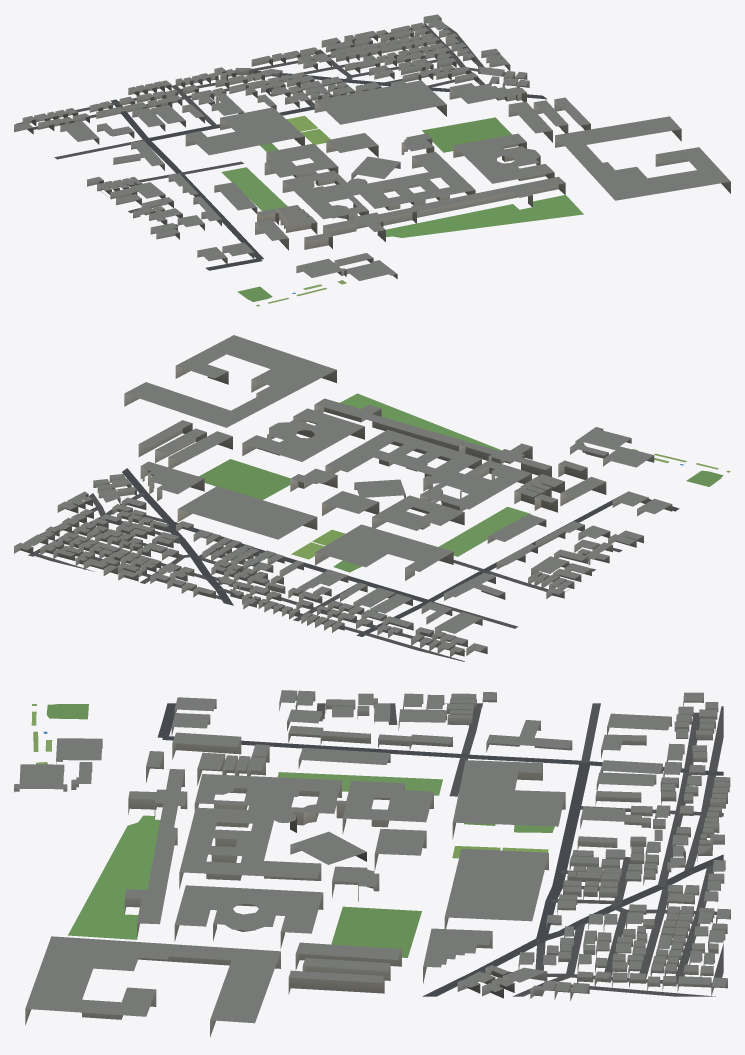
3 renders of one model, top to bottom at view 1: azimuth 30°, elevation 25°; view 2: azimuth 150°, elevation 25°; view 3: azimuth 270°, elevation 25°, orthographic. The views are drawn at different scales.
Visible parts, largest first — view 1: building, ground; view 2: building, ground; view 3: building, ground.
Boxes of the visible parts, x1,y1,x2,y2 form: building: (14, 14, 730, 280); ground: (14, 24, 583, 306); building: (14, 335, 672, 656); ground: (28, 393, 730, 661); building: (14, 690, 730, 1036); ground: (31, 703, 723, 996).
Bounding box in the file's own units: 581 × 14 × 517.
